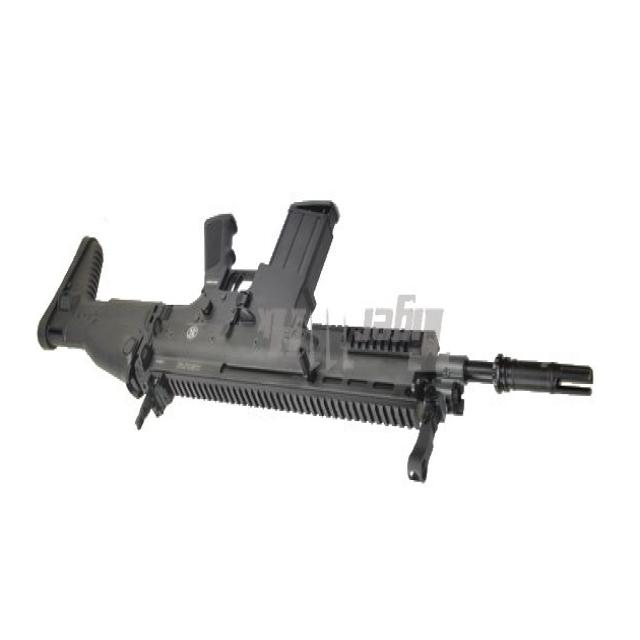Gun: (26, 195, 594, 499)
